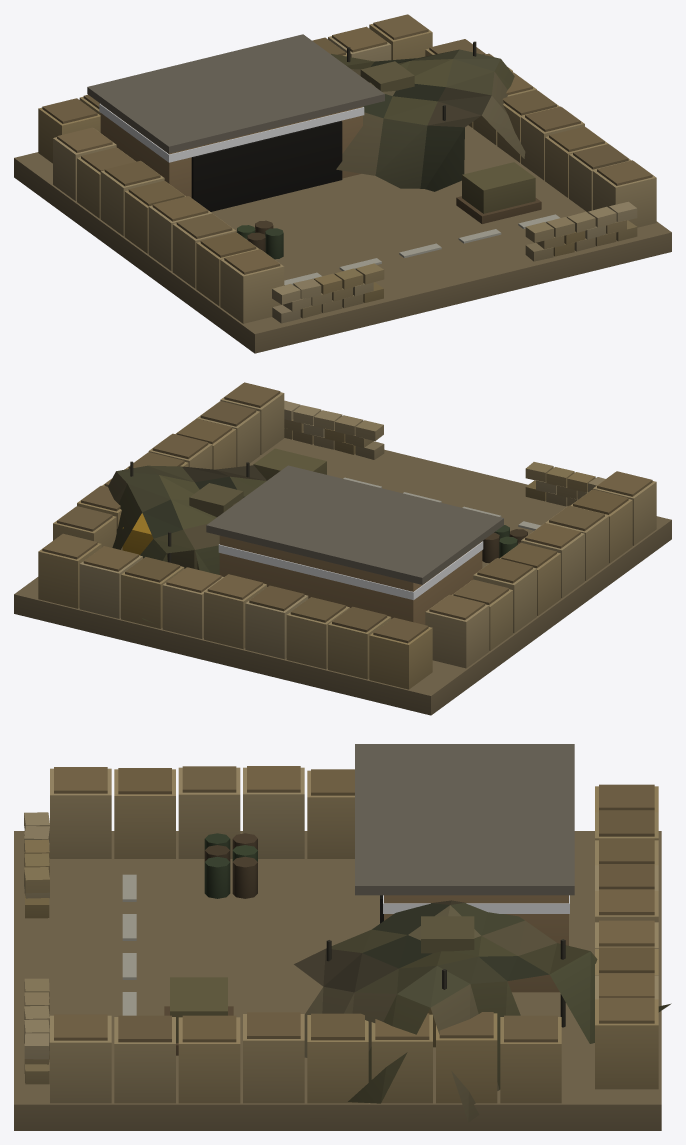
Rendered from m_depot_ccee799b.glb.
The picture shows the model from 3 angles, top to bottom: view 1: azimuth 30°, elevation 25°; view 2: azimuth 150°, elevation 25°; view 3: azimuth 270°, elevation 25°; orthographic projection. The views are drawn at different scales.
Parts seen in each view (by area): view 1: mesh; view 2: mesh; view 3: mesh.
Part boxes in pixels (bbox=[...]): mesh: bbox=[14, 14, 671, 353]; mesh: bbox=[14, 382, 671, 715]; mesh: bbox=[14, 744, 671, 1130].
Bounding box in the file's own units: 58 × 13.35 × 56.91.
